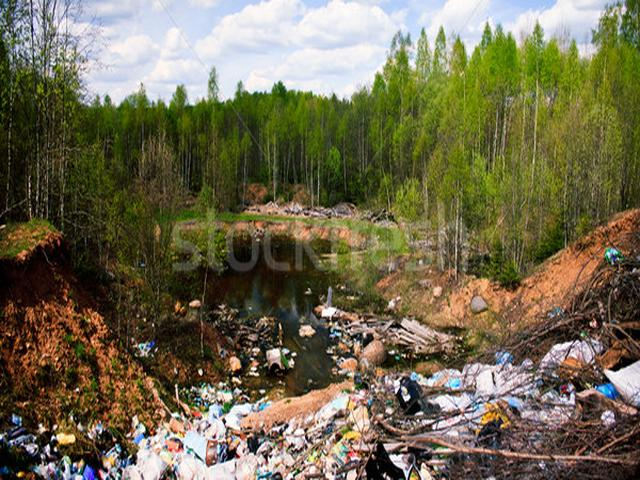garbage: (55, 372, 530, 462)
